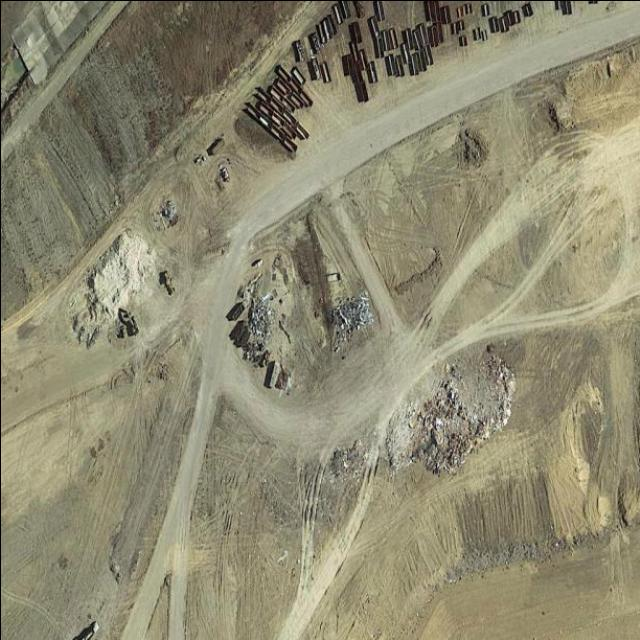dump_site: (372, 332, 527, 512), (327, 284, 373, 353), (323, 430, 371, 486), (243, 272, 274, 348), (156, 195, 180, 229)
